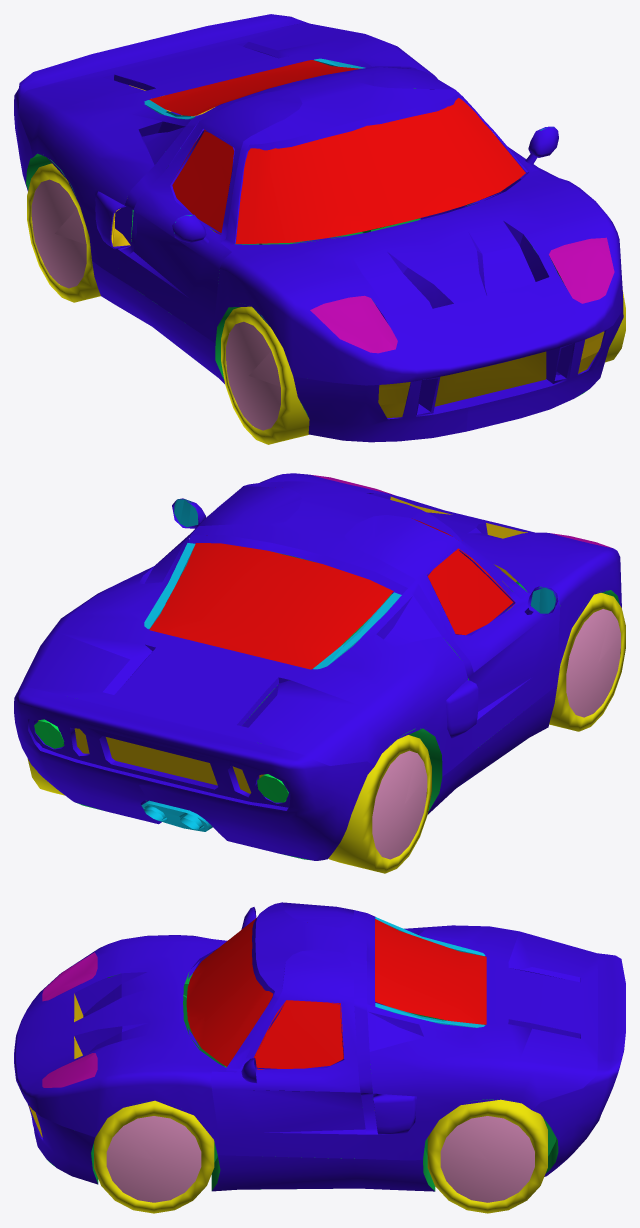
File: Car05_Low_ColorCoded.fbx
The picture shows the model from 3 angles, top to bottom: view 1: azimuth 30°, elevation 25°; view 2: azimuth 150°, elevation 25°; view 3: azimuth 270°, elevation 25°; orthographic projection. The views are drawn at different scales.
Visible parts, largest first — view 1: carBody_low, tireFrontR_low, tireBackR_low; view 2: carBody_low, tireBackR_low, tireFrontR_low; view 3: carBody_low, tireBackL_low, tireFrontL_low.
Part boxes in pixels (x1=…): carBody_low: x1=14, y1=14, x2=623, y2=442; tireFrontR_low: x1=221, y1=306, x2=309, y2=444; tireBackR_low: x1=27, y1=163, x2=100, y2=302; carBody_low: x1=14, y1=473, x2=621, y2=860; tireBackR_low: x1=328, y1=735, x2=431, y2=873; tireFrontR_low: x1=549, y1=593, x2=625, y2=731; carBody_low: x1=14, y1=902, x2=625, y2=1191; tireBackL_low: x1=427, y1=1099, x2=547, y2=1213; tireFrontL_low: x1=94, y1=1100, x2=214, y2=1213.
Bounding box in the file's own units: 71.25 × 114 × 42.7.
